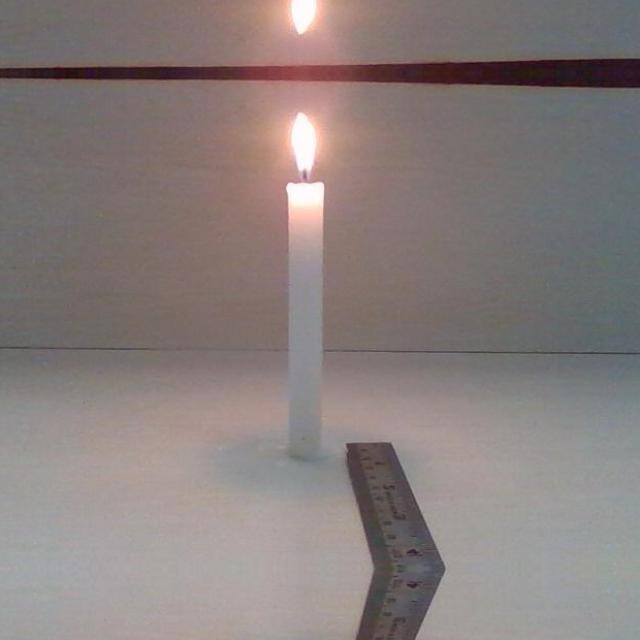smoke: (285, 110, 320, 179), (285, 0, 320, 36)
